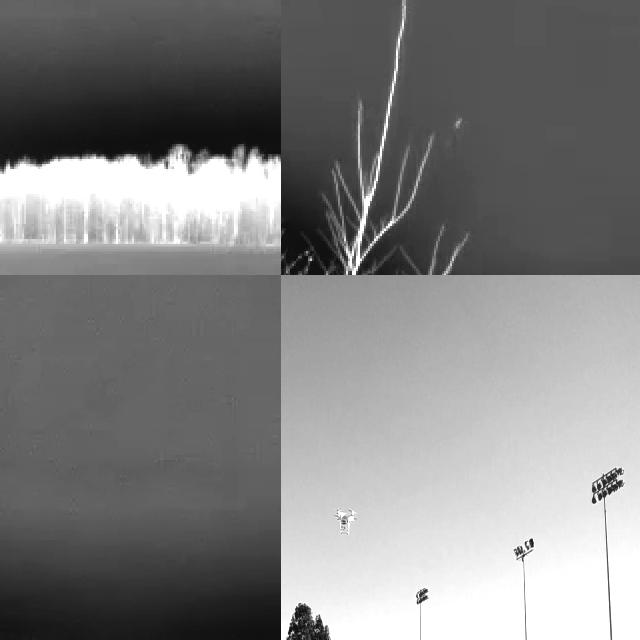0: (449, 110, 471, 137)
drone: (333, 504, 359, 536)
